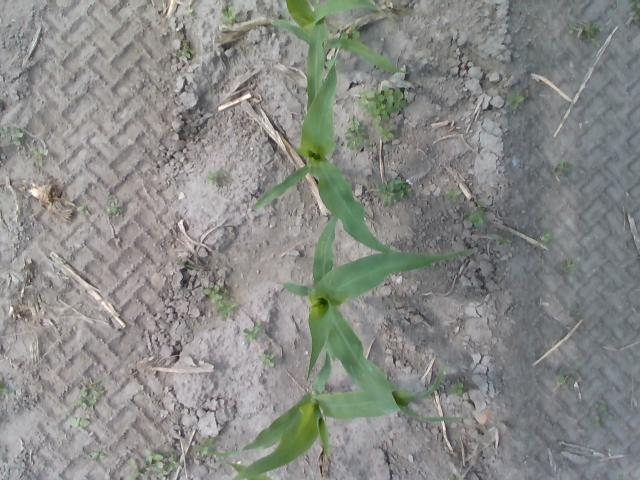Maize: (278, 217, 478, 422), (194, 351, 466, 480), (252, 48, 394, 252), (270, 0, 410, 74), (230, 462, 272, 480)
Weeds: (362, 85, 407, 126), (382, 174, 408, 206), (210, 292, 237, 320), (344, 123, 368, 150), (79, 386, 105, 408), (571, 21, 600, 40), (2, 126, 24, 145), (468, 208, 491, 225), (379, 123, 398, 143), (151, 462, 172, 480), (506, 88, 524, 108), (130, 458, 144, 480), (596, 400, 610, 422), (222, 8, 238, 26), (70, 416, 94, 428), (34, 148, 49, 166), (262, 351, 276, 368), (204, 282, 221, 296), (630, 0, 640, 21), (206, 168, 221, 182), (106, 202, 120, 216), (146, 450, 162, 462), (342, 29, 361, 38), (181, 45, 194, 58), (555, 162, 571, 172), (562, 261, 574, 274), (558, 375, 573, 385), (246, 326, 260, 336), (91, 451, 106, 460), (448, 188, 462, 197), (452, 382, 463, 393), (499, 236, 511, 246), (540, 232, 552, 242)
